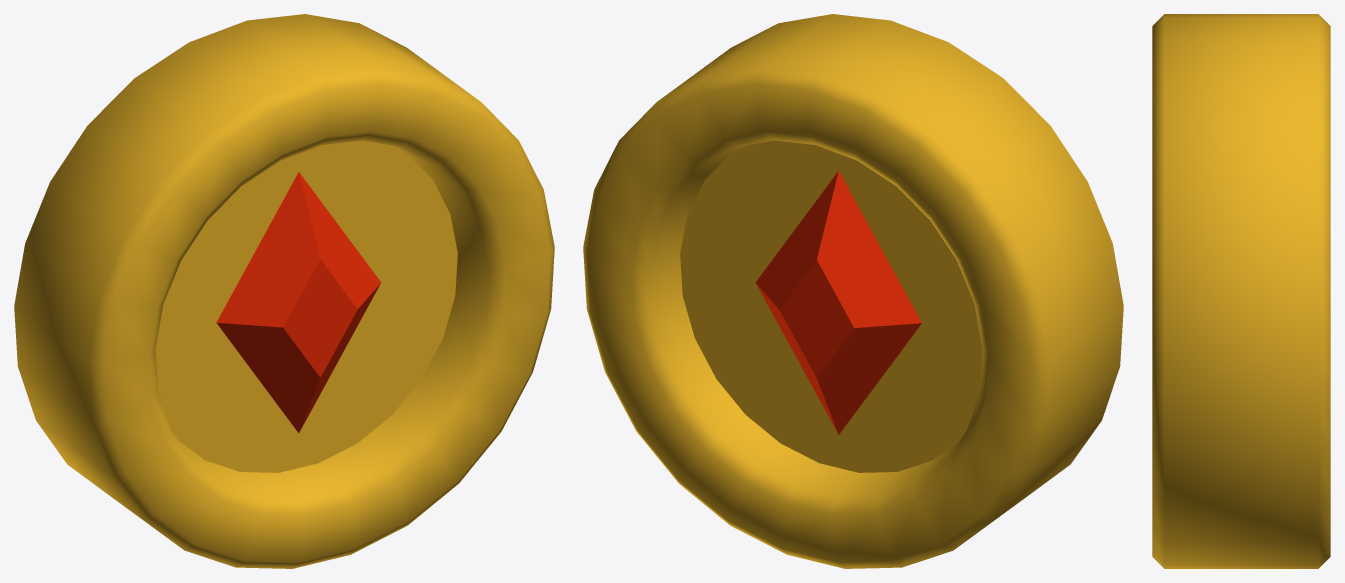
Rendered from coin1.fbx.
3 views of the same model, side by side, from view 1: azimuth 30°, elevation 25°; view 2: azimuth 150°, elevation 25°; view 3: azimuth 270°, elevation 25° (orthographic). The views are drawn at different scales.
Visible parts, largest first — view 1: Circle; view 2: Circle; view 3: Circle.
Part boxes in pixels (box(x1,y1,x2,y2)): Circle: box(14, 14, 554, 568); Circle: box(583, 14, 1123, 568); Circle: box(1152, 14, 1330, 568).
Size of the model in its own units: 0.452 by 0.4512 by 0.1454.
